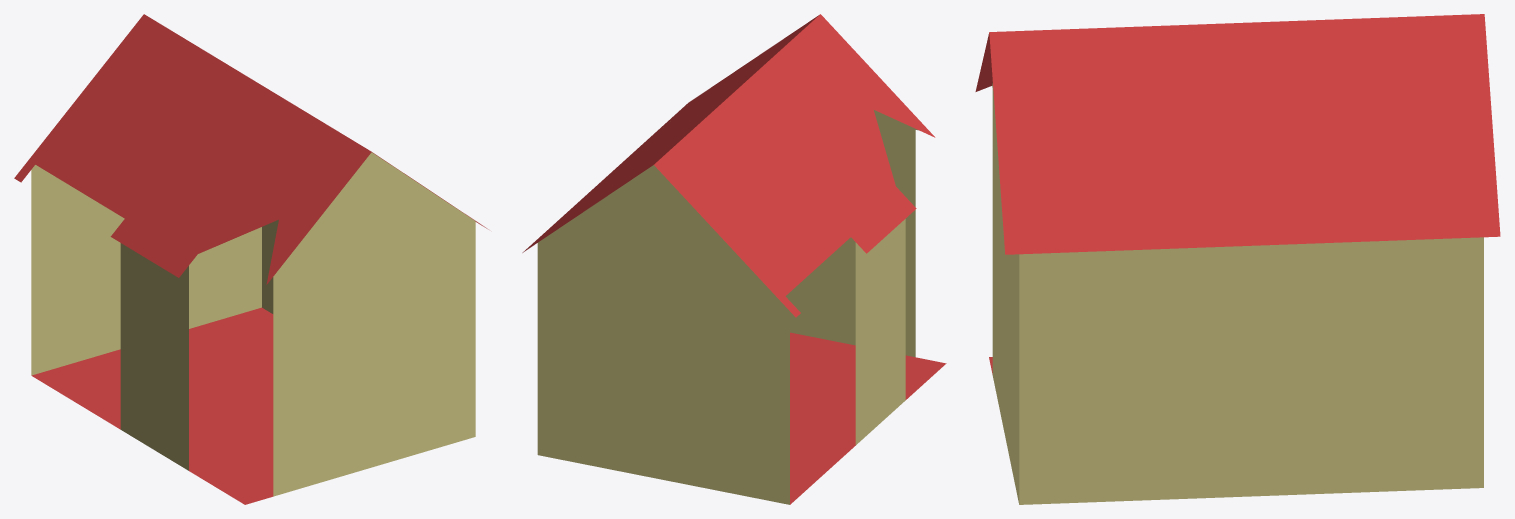
The picture shows the model from 3 angles, left to right: view 1: azimuth 30°, elevation 25°; view 2: azimuth 150°, elevation 25°; view 3: azimuth 270°, elevation 25°; orthographic projection. The views are drawn at different scales.
Bounding box in the file's own units: 13.76 × 17.05 × 14.41.
